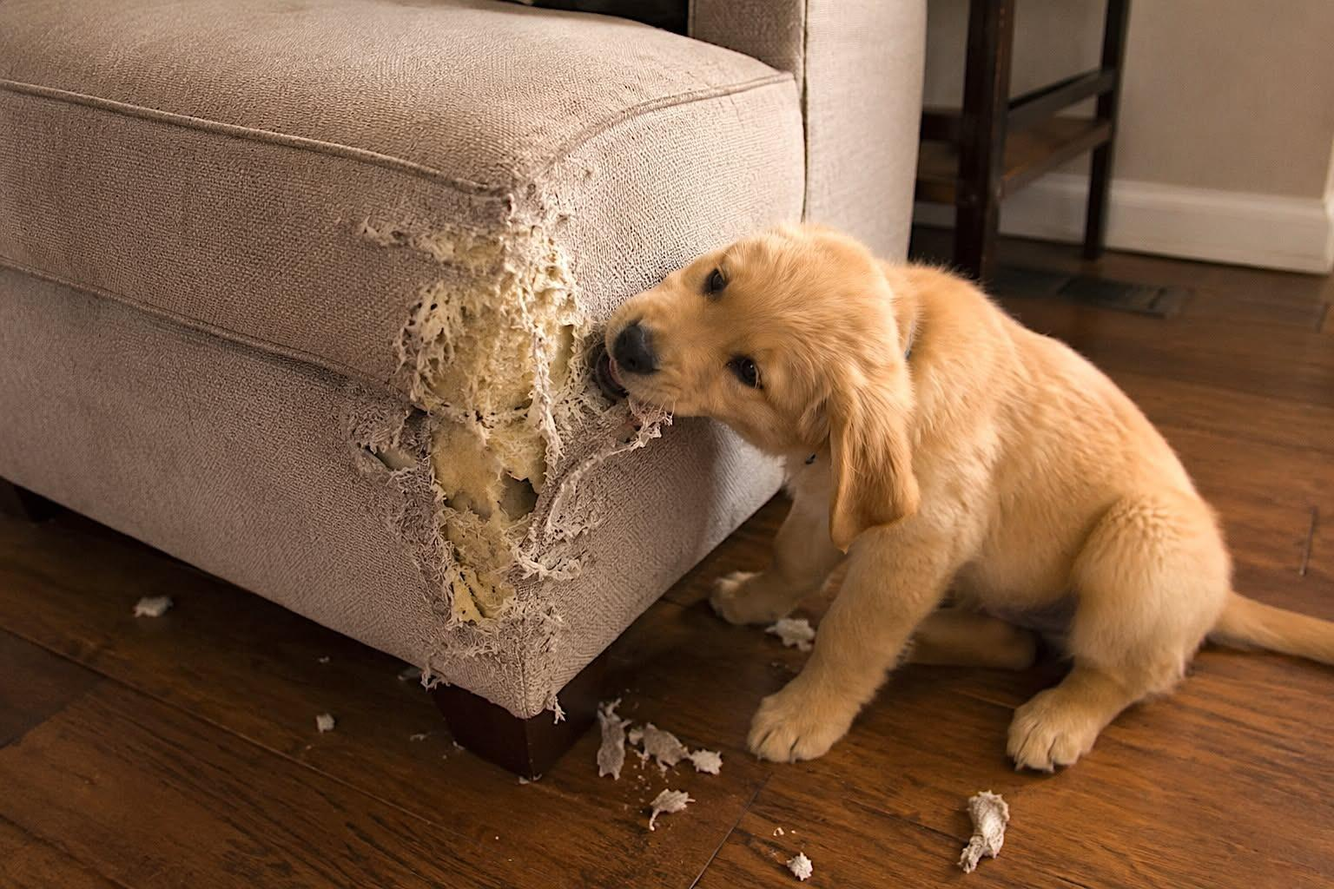puppy-dog: (590, 221, 1334, 774)
